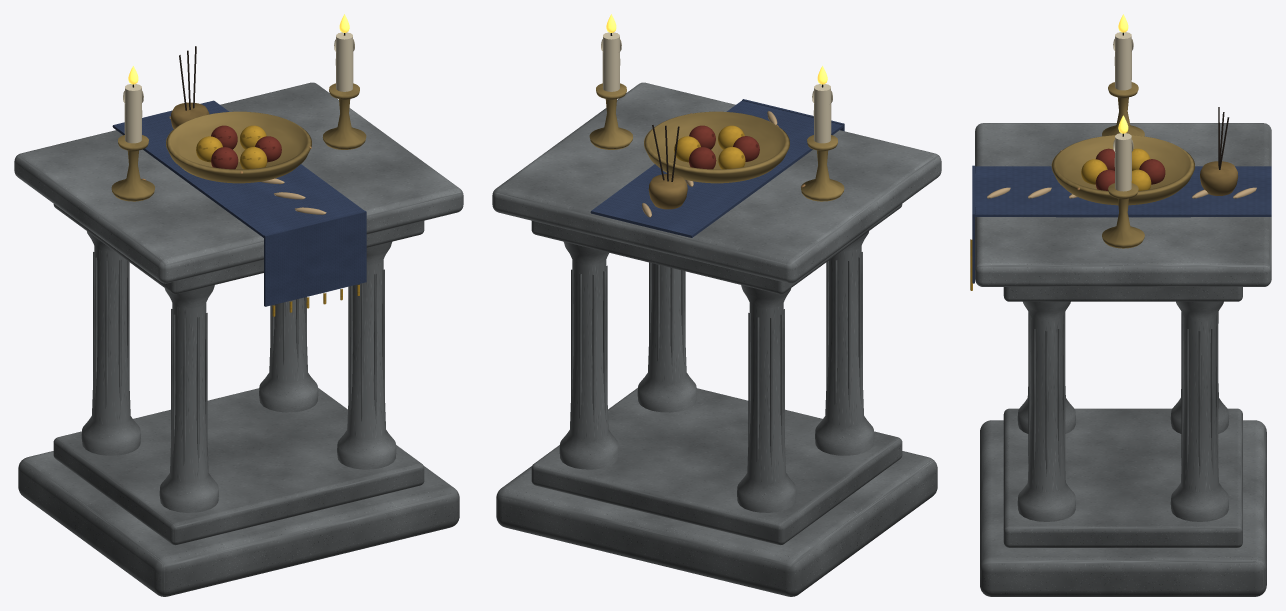
3 renders of one model, left to right at view 1: azimuth 30°, elevation 25°; view 2: azimuth 150°, elevation 25°; view 3: azimuth 270°, elevation 25°, orthographic.
Parts seen in each view (by area): view 1: dressed stone, tooled stone trim, dyed linen cloth, aged brass fittings, tallow wax, ochre enamel, faded red enamel, cast bell bronze; view 2: dressed stone, tooled stone trim, aged brass fittings, dyed linen cloth, tallow wax, faded red enamel, ochre enamel, cast bell bronze; view 3: dressed stone, tooled stone trim, dyed linen cloth, aged brass fittings, tallow wax, ochre enamel, cast bell bronze, faded red enamel, thread loop.
Boxes of the visible parts, box(x1,y1,x2,y2) form: dressed stone: box(14, 82, 463, 596); tooled stone trim: box(53, 204, 424, 545); dyed linen cloth: box(112, 100, 366, 306); aged brass fittings: box(111, 83, 366, 201); tallow wax: box(123, 32, 354, 143); ochre enamel: box(196, 125, 359, 316); faded red enamel: box(211, 125, 281, 169); cast bell bronze: box(170, 102, 209, 128); dressed stone: box(492, 82, 941, 596); tooled stone trim: box(531, 204, 902, 545); aged brass fittings: box(589, 83, 844, 201); dyed linen cloth: box(590, 99, 844, 237); tallow wax: box(601, 32, 832, 143); faded red enamel: box(689, 125, 759, 169); ochre enamel: box(674, 125, 745, 169); cast bell bronze: box(648, 174, 687, 209); dressed stone: box(975, 123, 1271, 596); tooled stone trim: box(1003, 287, 1242, 547); dyed linen cloth: box(972, 165, 1271, 283); aged brass fittings: box(1051, 82, 1194, 248); tallow wax: box(1113, 32, 1133, 191); ochre enamel: box(970, 148, 1151, 290); cast bell bronze: box(1200, 161, 1238, 195); faded red enamel: box(1095, 148, 1165, 190); thread loop: box(987, 187, 1256, 198).
Bounding box in the file's own units: 0.72 × 1.07 × 0.63.
Materials: 13 (8 with a texture image).
